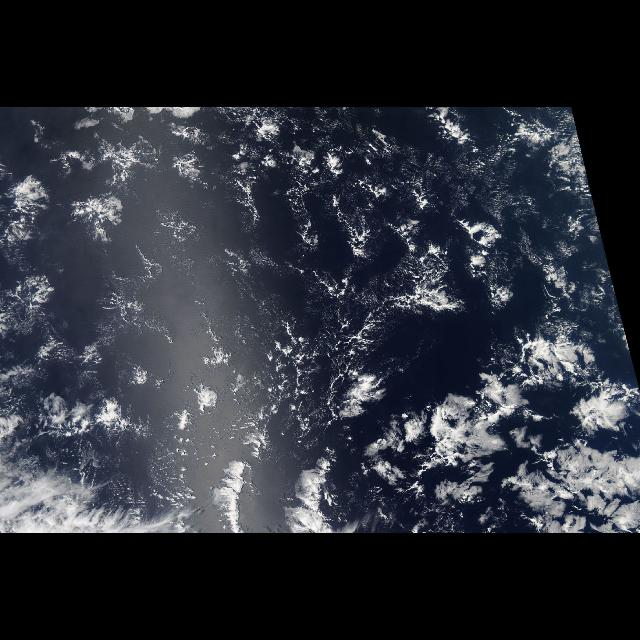Flower: (1, 107, 640, 459)
Gravel: (205, 113, 541, 394)
